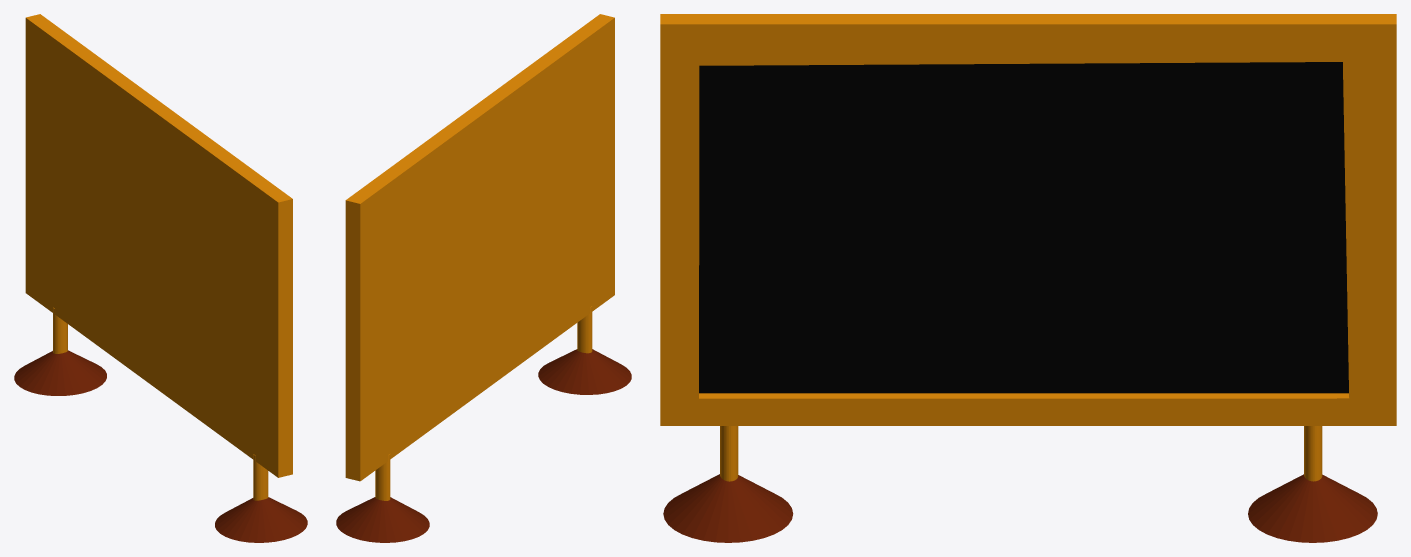
Rendered from board.fbx.
The picture shows the model from 3 angles, left to right: view 1: azimuth 30°, elevation 25°; view 2: azimuth 150°, elevation 25°; view 3: azimuth 270°, elevation 25°; orthographic projection. The views are drawn at different scales.
Visible parts, largest first — view 1: Cube, Cone, Cone.001, Cylinder, Cylinder.002; view 2: Cube, Cone.001, Cone, Cylinder, Cylinder.002; view 3: Cube, Cone.001, Cone, Cylinder, Cylinder.002.
Boxes of the visible parts, left/top/right/bottom form: Cube: left=25, top=14, right=292, bottom=477; Cone: left=215, top=497, right=307, bottom=542; Cone.001: left=14, top=350, right=106, bottom=395; Cylinder: left=253, top=454, right=268, bottom=500; Cylinder.002: left=53, top=307, right=67, bottom=353; Cube: left=345, top=14, right=614, bottom=481; Cone.001: left=336, top=497, right=429, bottom=542; Cone: left=538, top=349, right=631, bottom=394; Cylinder: left=577, top=306, right=592, bottom=353; Cylinder.002: left=375, top=454, right=390, bottom=500; Cube: left=660, top=14, right=1396, bottom=425; Cone.001: left=1248, top=474, right=1377, bottom=542; Cone: left=663, top=474, right=793, bottom=542; Cylinder: left=720, top=426, right=738, bottom=481; Cylinder.002: left=1304, top=426, right=1322, bottom=481.
Size of the model in its own units: 62.16 by 247 by 333.
